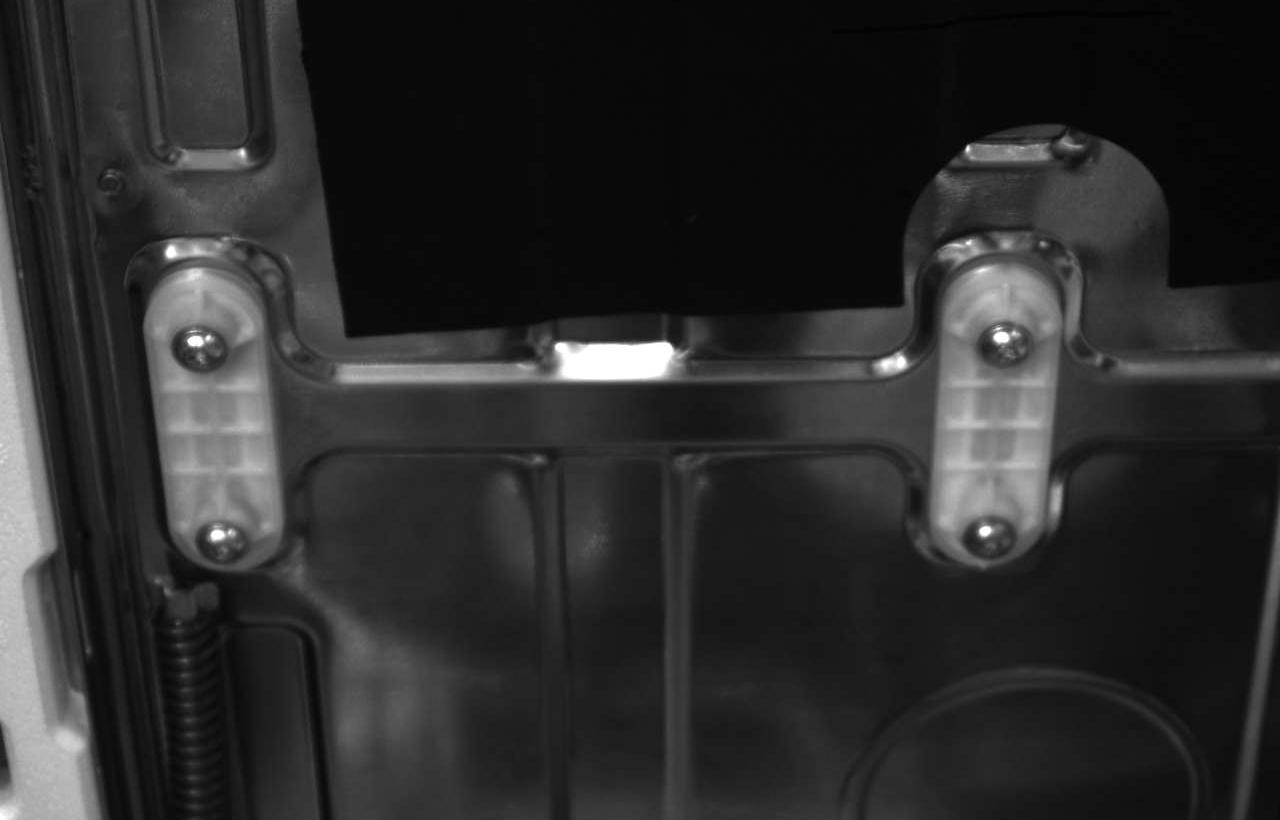vida-ok: (159, 309, 246, 387), (966, 312, 1054, 385), (183, 514, 264, 578), (955, 506, 1030, 565)
